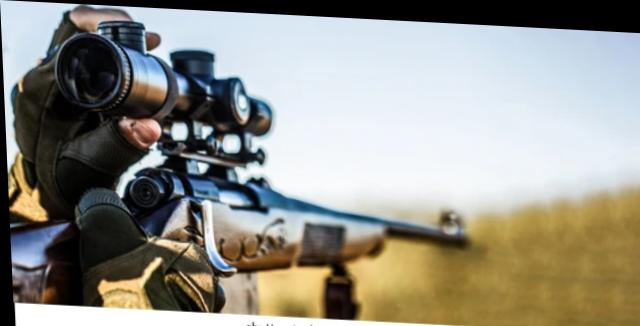other: (4, 0, 159, 195)
